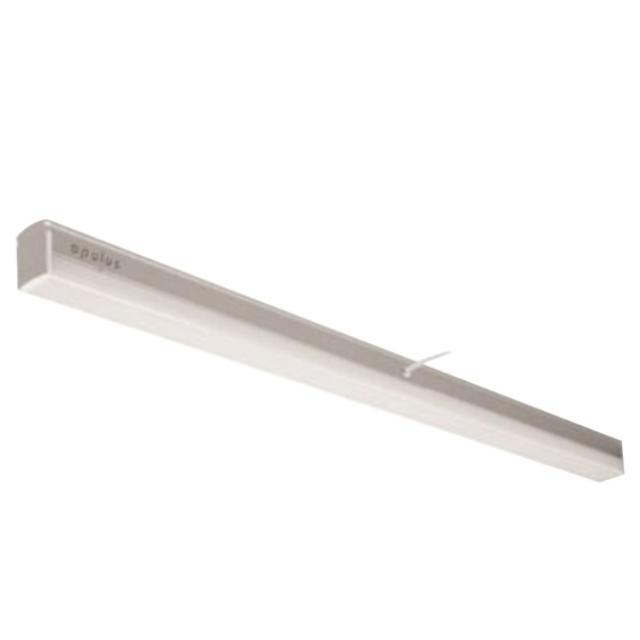tubelight_off: (17, 205, 632, 495)
